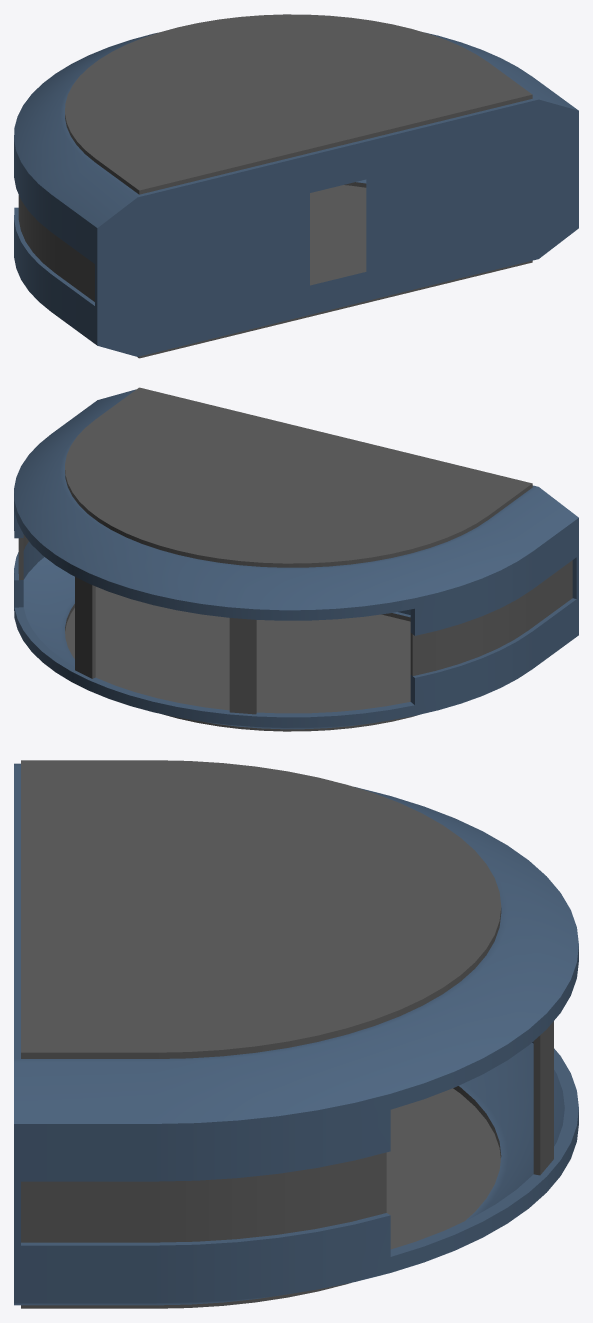
File: Bridge_Outside.glb
3 views of the same model, one above another, from view 1: azimuth 30°, elevation 25°; view 2: azimuth 150°, elevation 25°; view 3: azimuth 270°, elevation 25° (orthographic). The views are drawn at different scales.
Visible parts, largest first — view 1: Bridge_Outside; view 2: Bridge_Outside; view 3: Bridge_Outside.
Boxes of the visible parts, x1,y1,x2,y2 form: Bridge_Outside: (14, 14, 578, 358); Bridge_Outside: (14, 387, 578, 731); Bridge_Outside: (14, 760, 578, 1308).
Bounding box in the file's own units: 12 × 4 × 8.
